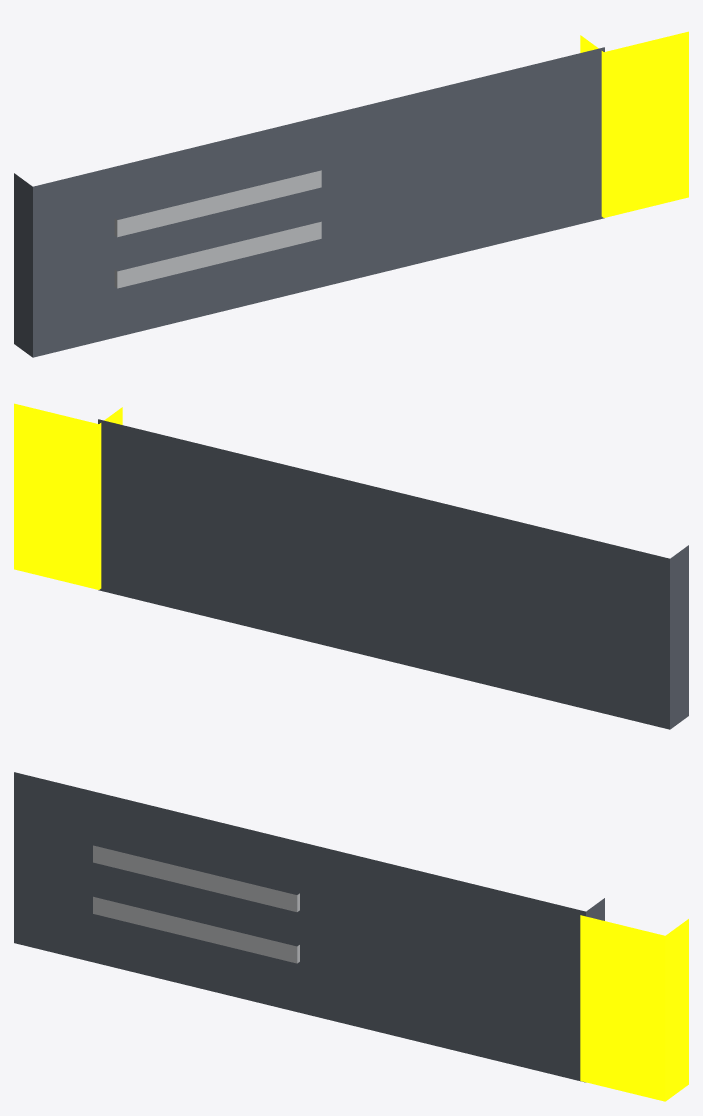
The model's file is ext_street_blade_04.glb.
3 views of the same model, one above another, from view 1: azimuth 30°, elevation 25°; view 2: azimuth 150°, elevation 25°; view 3: azimuth 330°, elevation 25° (orthographic).
Visible parts, largest first — view 1: Blade, End_Tab, Spin_Bars; view 2: Blade, End_Tab; view 3: Blade, End_Tab, Spin_Bars.
Boxes of the visible parts, left/top/right/bottom form: Blade: left=14, top=47, right=604, bottom=357; End_Tab: left=580, top=31, right=688, bottom=217; Spin_Bars: left=114, top=170, right=321, bottom=288; Blade: left=98, top=419, right=688, bottom=729; End_Tab: left=14, top=403, right=122, bottom=589; Blade: left=14, top=772, right=604, bottom=1082; End_Tab: left=580, top=915, right=688, bottom=1101; Spin_Bars: left=93, top=845, right=299, bottom=963.
Bounding box in the file's own units: 0.8 × 0.2 × 0.051.
